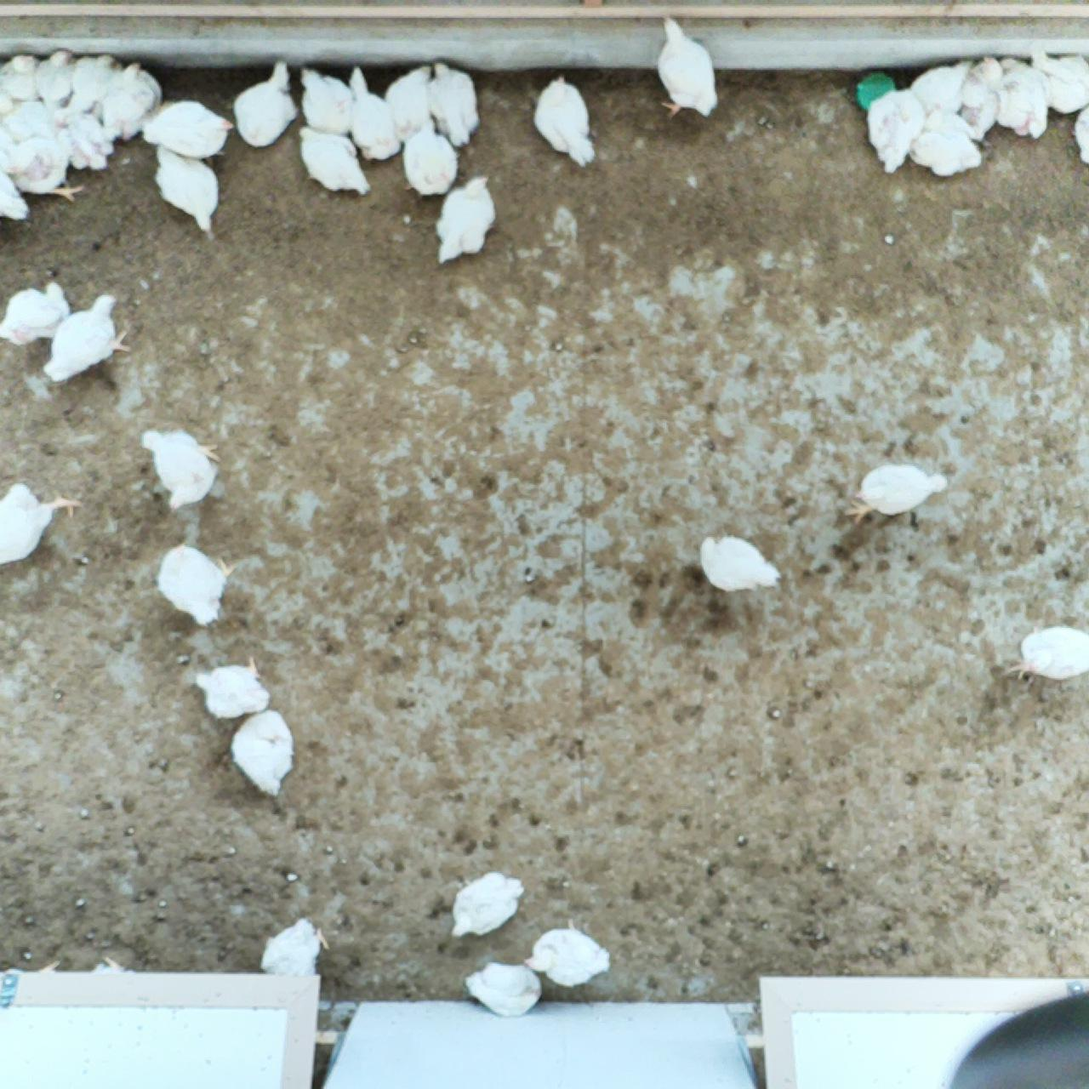chicken: (39, 292, 137, 388), (152, 537, 242, 633), (137, 421, 225, 518), (651, 11, 725, 125), (0, 476, 81, 575), (840, 459, 950, 531), (527, 70, 599, 173), (520, 913, 614, 991), (227, 705, 301, 804), (151, 141, 223, 236), (138, 96, 238, 164), (231, 57, 302, 151), (445, 867, 529, 945), (433, 168, 499, 265), (0, 136, 88, 207), (294, 120, 373, 199), (462, 957, 549, 1026), (189, 654, 275, 722), (696, 531, 785, 596), (1001, 621, 1089, 686), (347, 62, 404, 162), (865, 83, 925, 178), (425, 56, 482, 152), (99, 60, 164, 144), (399, 115, 460, 201), (993, 54, 1052, 142), (0, 275, 70, 347), (257, 913, 331, 980), (907, 115, 984, 178), (1028, 44, 1089, 117), (295, 63, 355, 137), (384, 60, 434, 148), (958, 54, 1008, 140), (909, 56, 976, 120), (67, 50, 127, 116), (56, 111, 116, 175), (33, 45, 77, 110), (0, 98, 64, 142), (0, 50, 44, 108), (0, 166, 31, 223), (1070, 99, 1089, 168)
